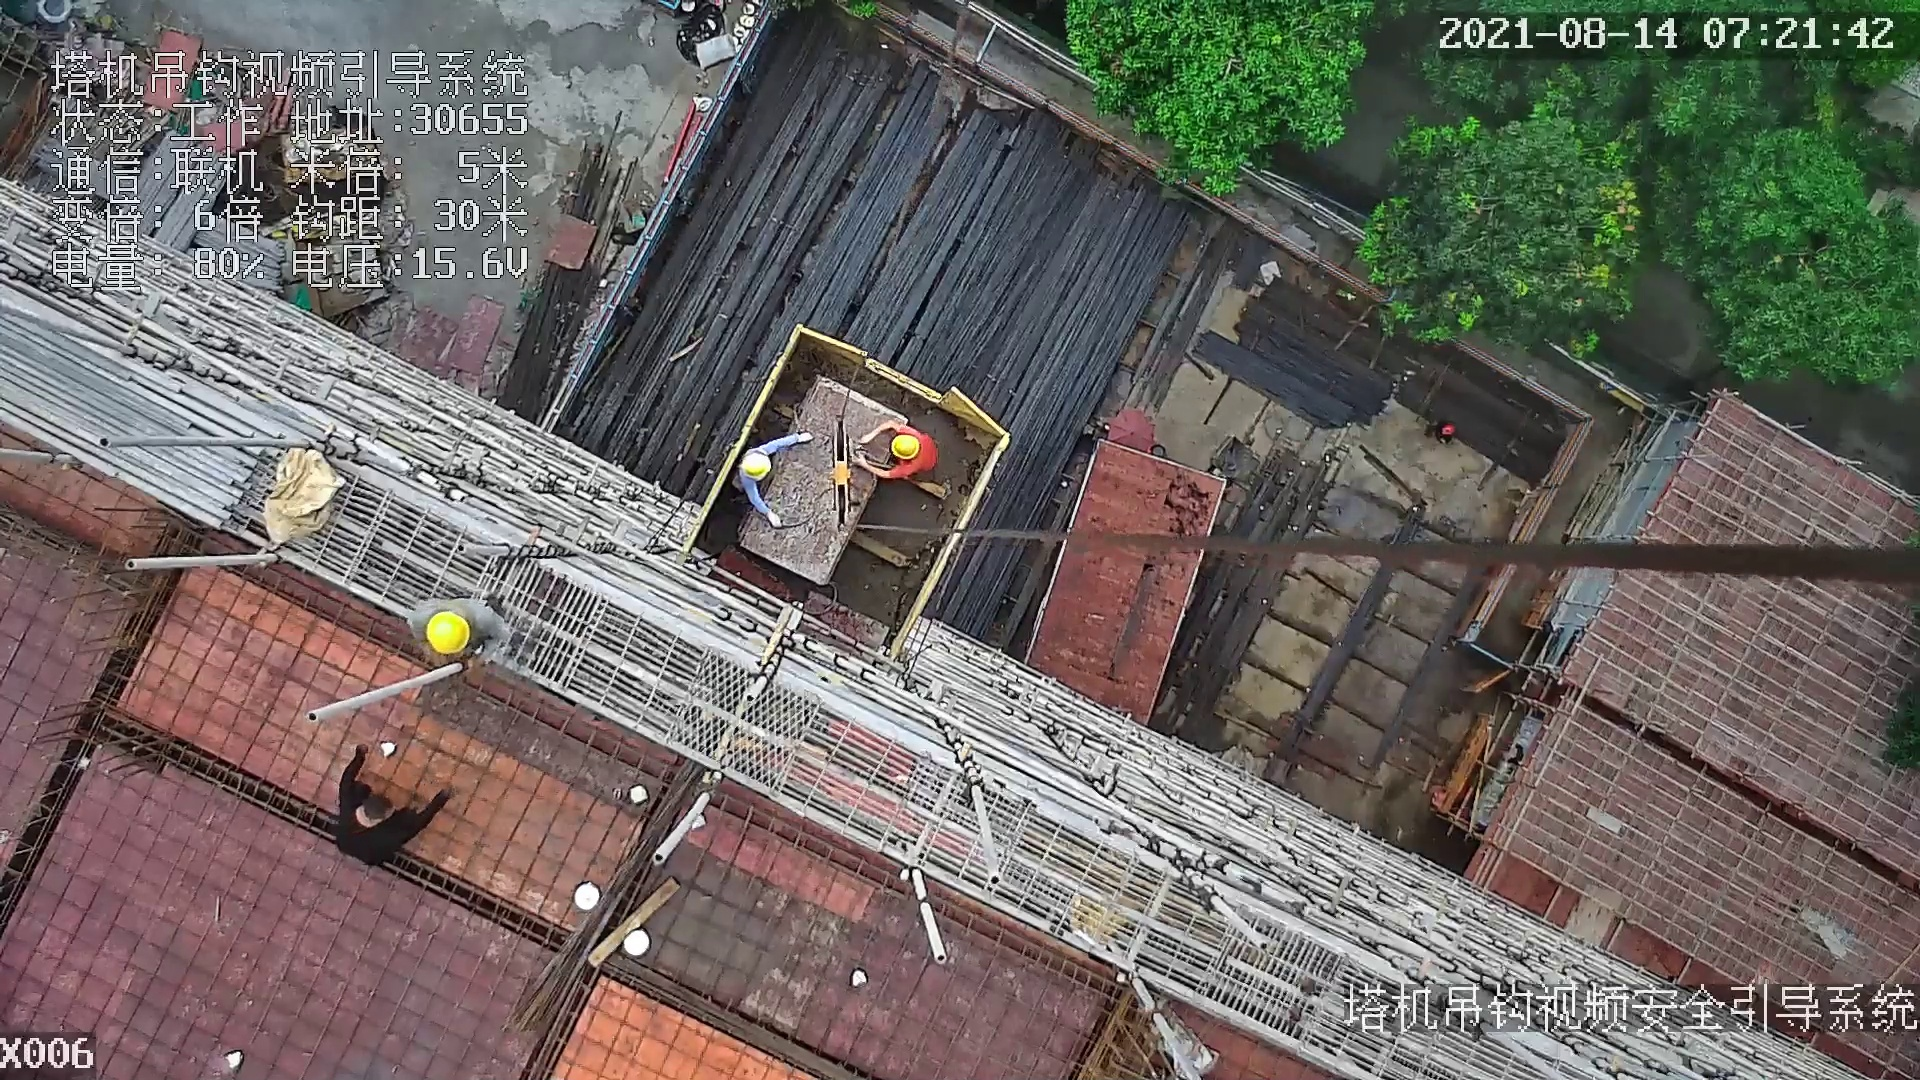helmet: (421, 607, 475, 651), (736, 446, 772, 481), (884, 433, 923, 461)
hook: (822, 419, 870, 537)
person: (328, 745, 462, 871), (412, 596, 522, 683), (827, 413, 938, 490), (735, 433, 813, 530)
